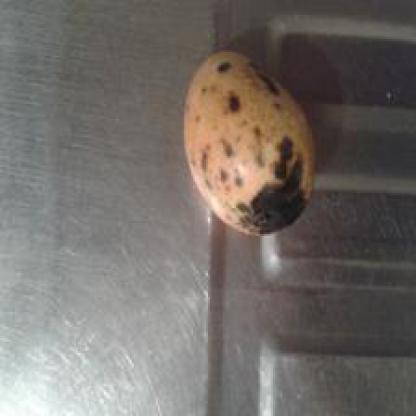mango_rotten: (178, 48, 314, 238)
